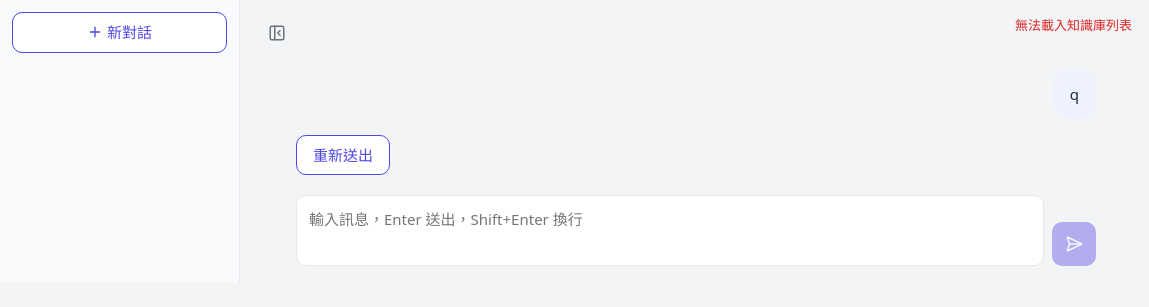
ChatPage › retry button disappears while streaming
The image size is (1149, 307).
Click the button "重新送出" at (343, 155), box [296, 134, 390, 175]
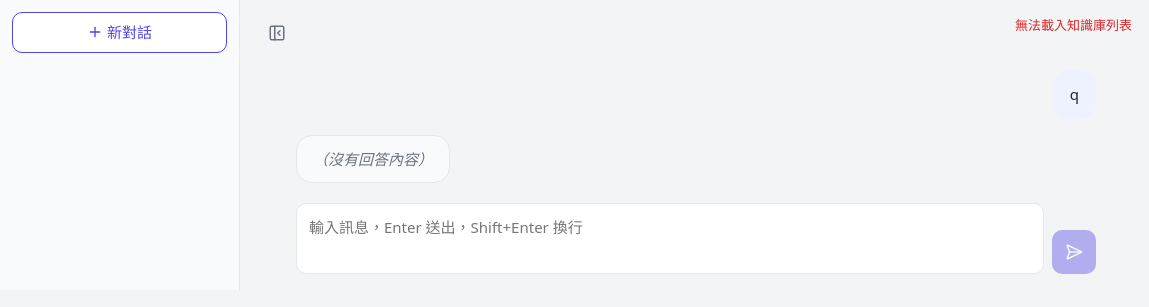
Expected: the button "重新送出" is gone
